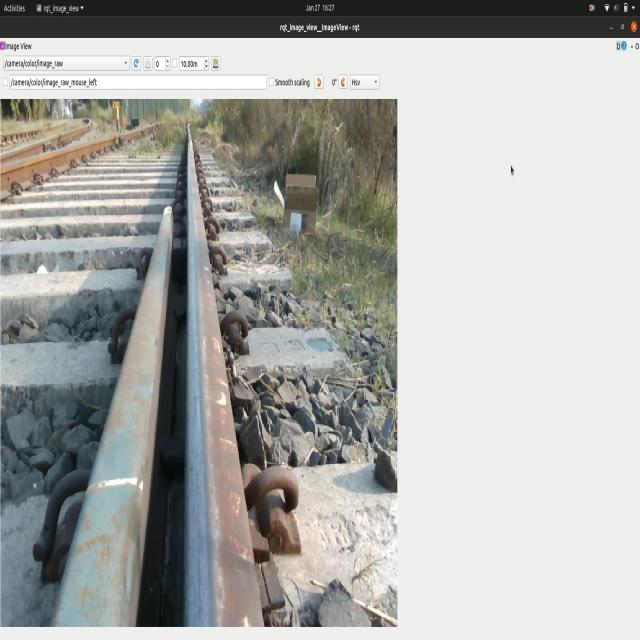correct: (235, 392, 333, 589)
